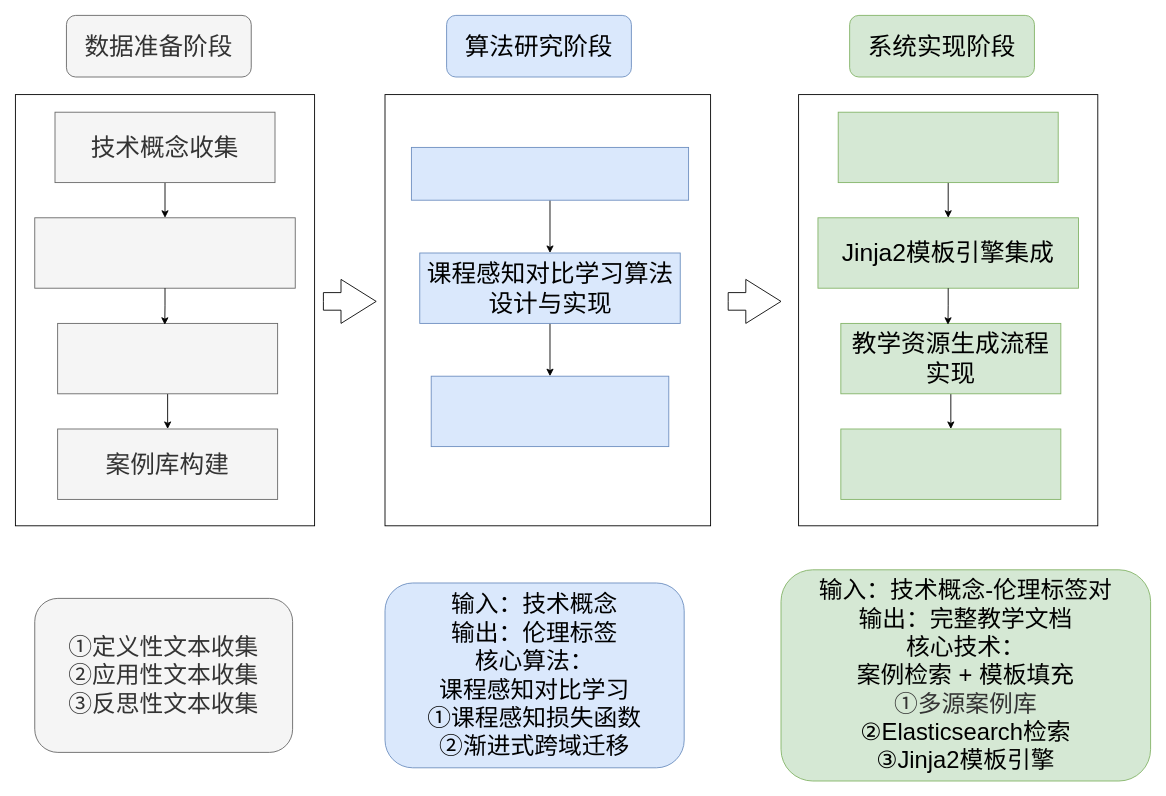
The diagram is 1166 pixels wide and 796 high, and some of its shapes have lost their labels. The centre of each missing label's shape, as x and y in pixels:
"BERT/SimCSE基线实现" goes at [550,173].
"Elasticsearch案例检索系统" goes at [947,147].
"伦理要素分类体系设计" goes at [164,252].
"对比实验与消融实验" goes at [549,411].
"数据标注" goes at [167,358].
"系统集成与测试" goes at [950,463].
